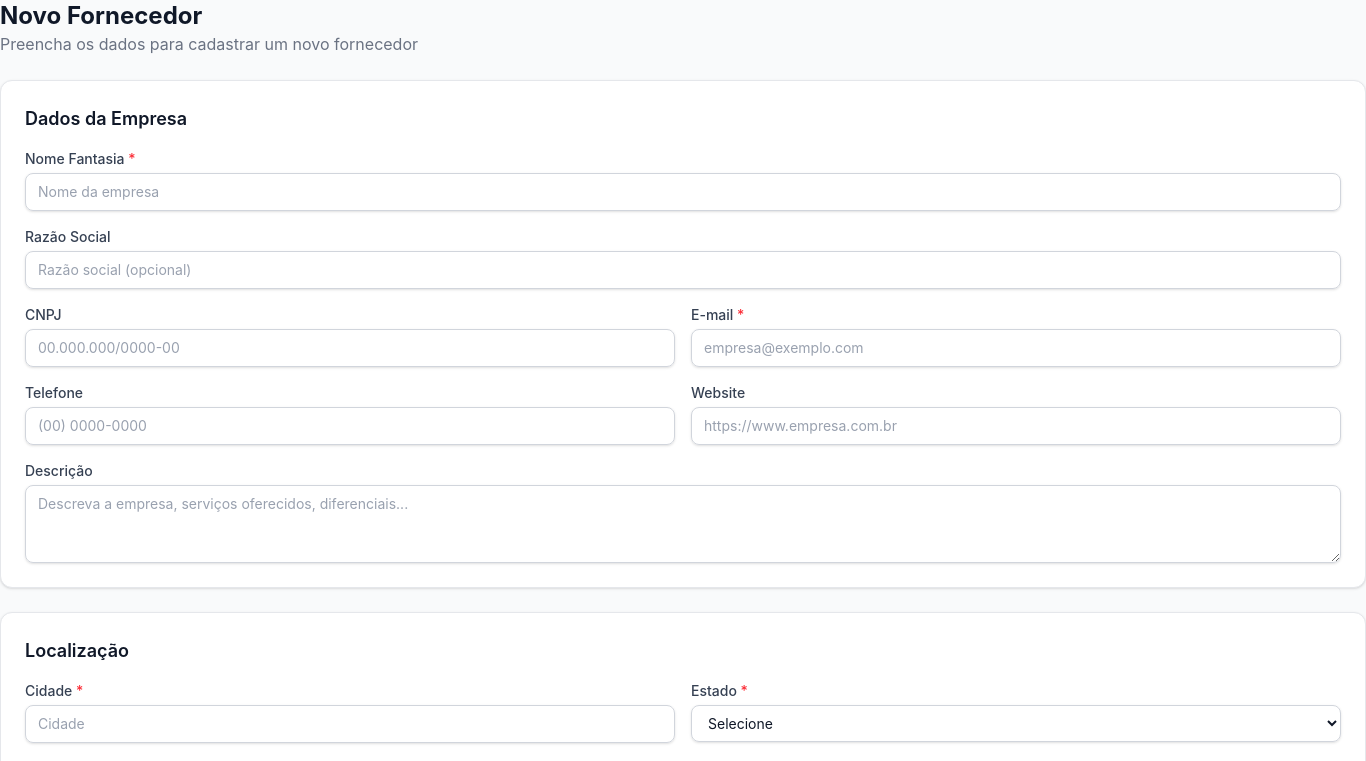
VendorFormView › criação › mostra os erros de validação da API
Type "Novo Fornecedor" into the field with id "trade_name" at (683, 192), box [25, 173, 1341, 211]
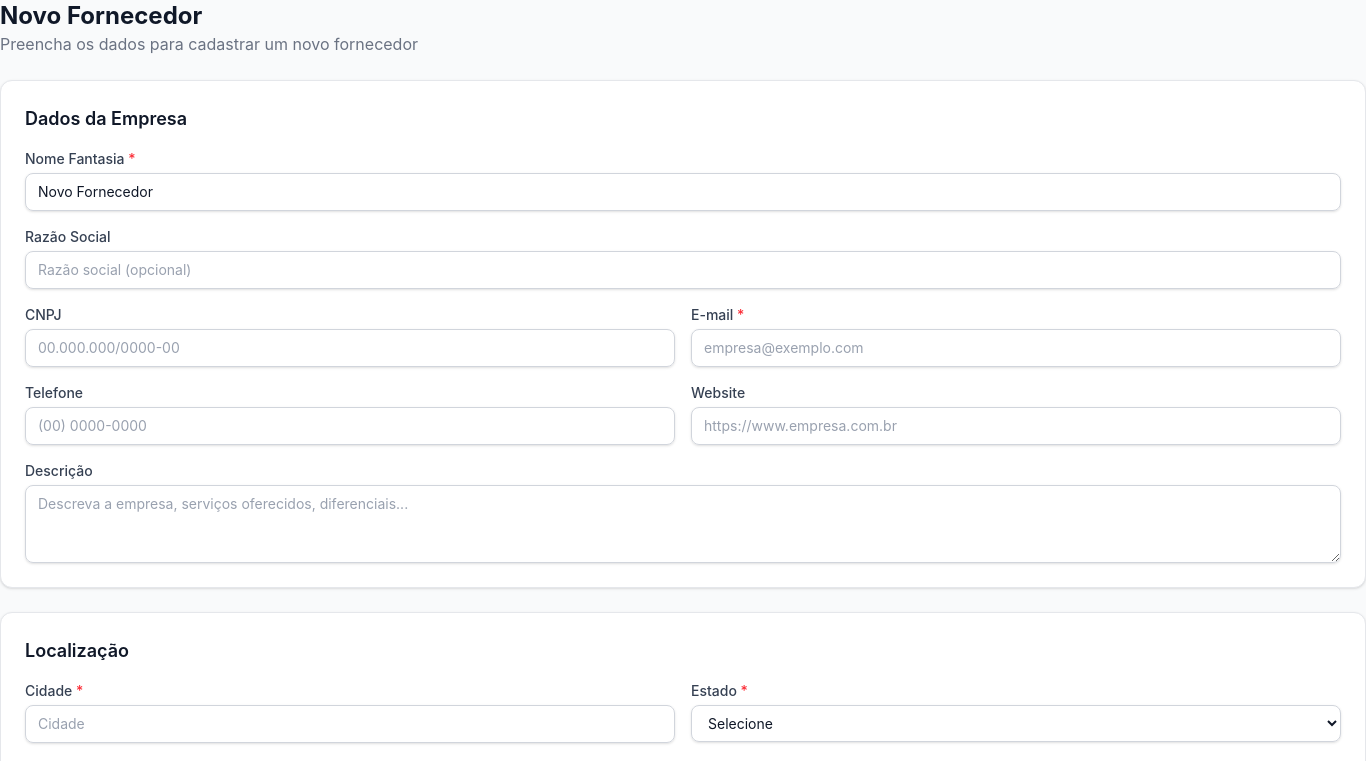
Type "novo@fornecedor.com.br" into the field with id "email" at (1016, 348), box [691, 329, 1341, 367]
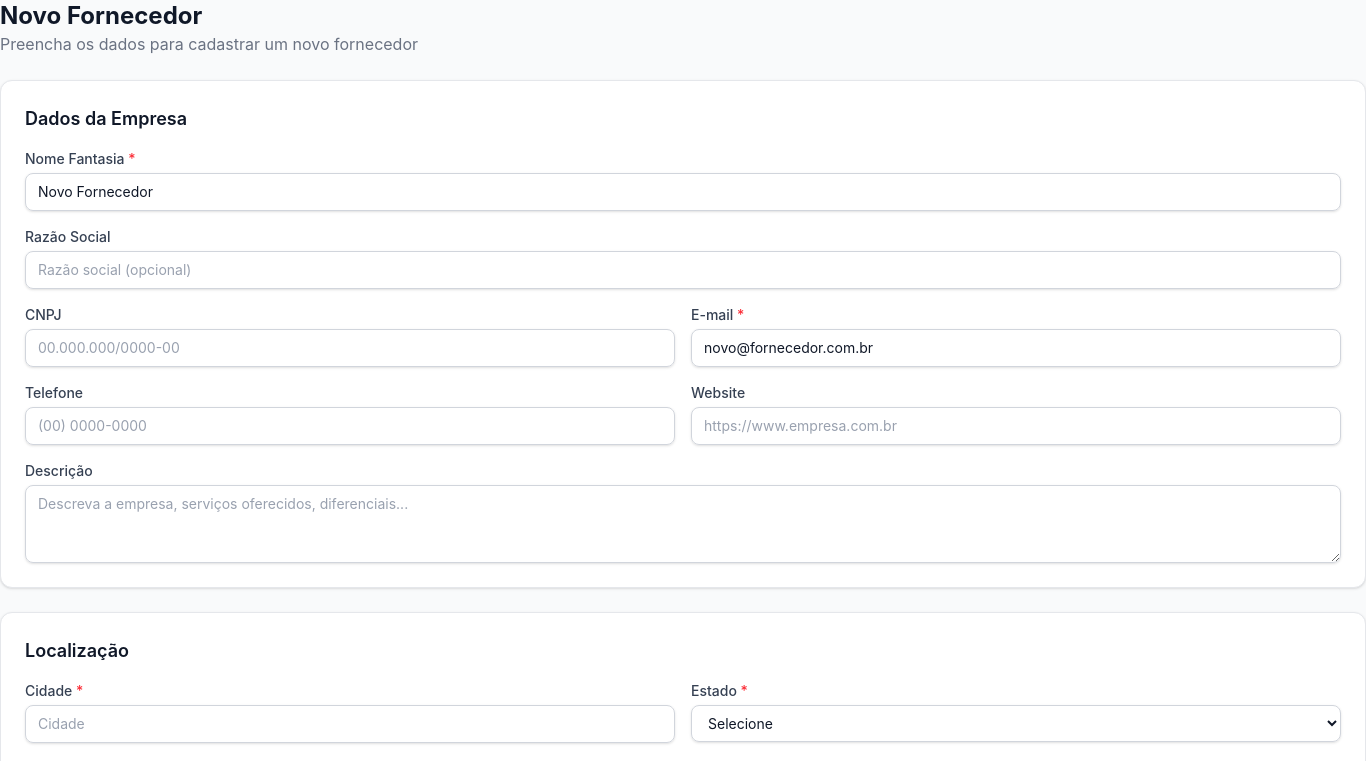
Type "São Paulo" into the field with id "city" at (350, 724), box [25, 705, 675, 743]
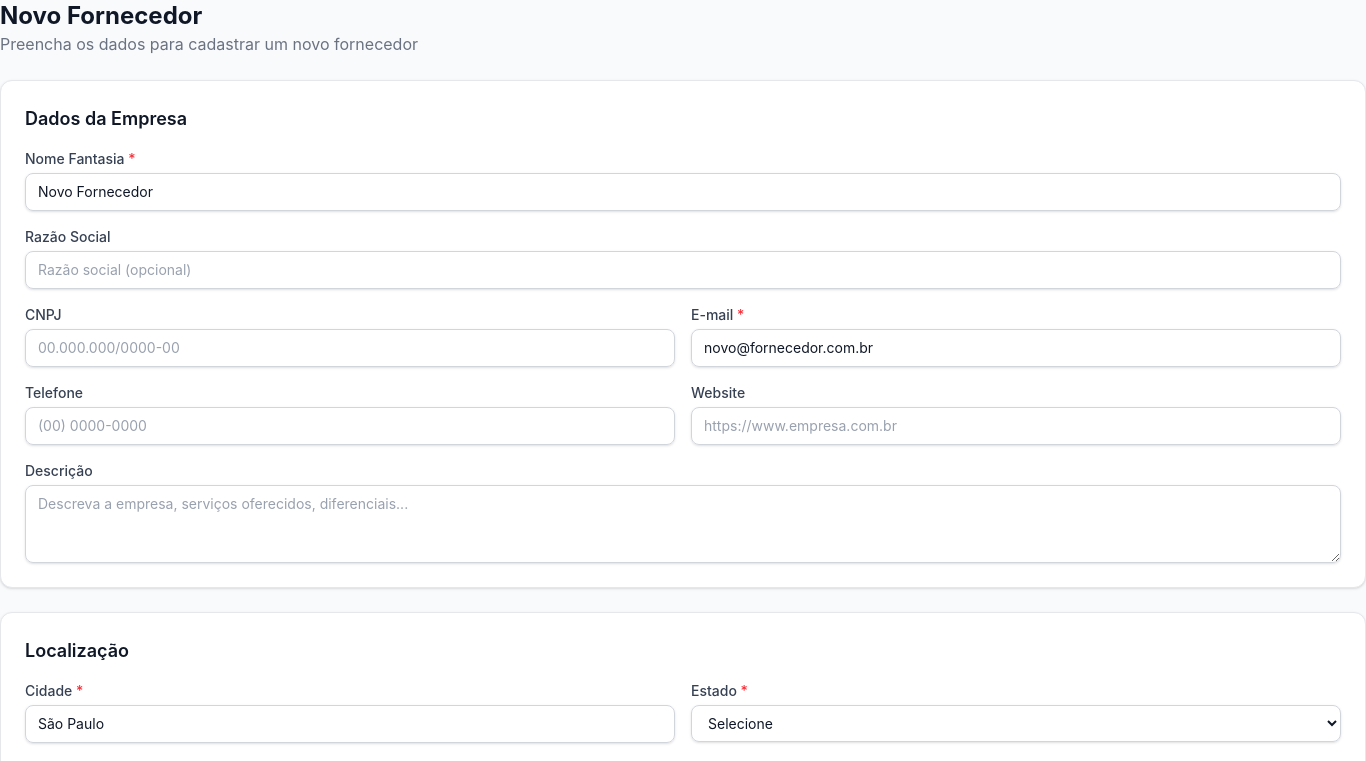
Select "SP" in the dropdown with id "state" at (1016, 724), box [691, 705, 1341, 742]
(page scrolled)
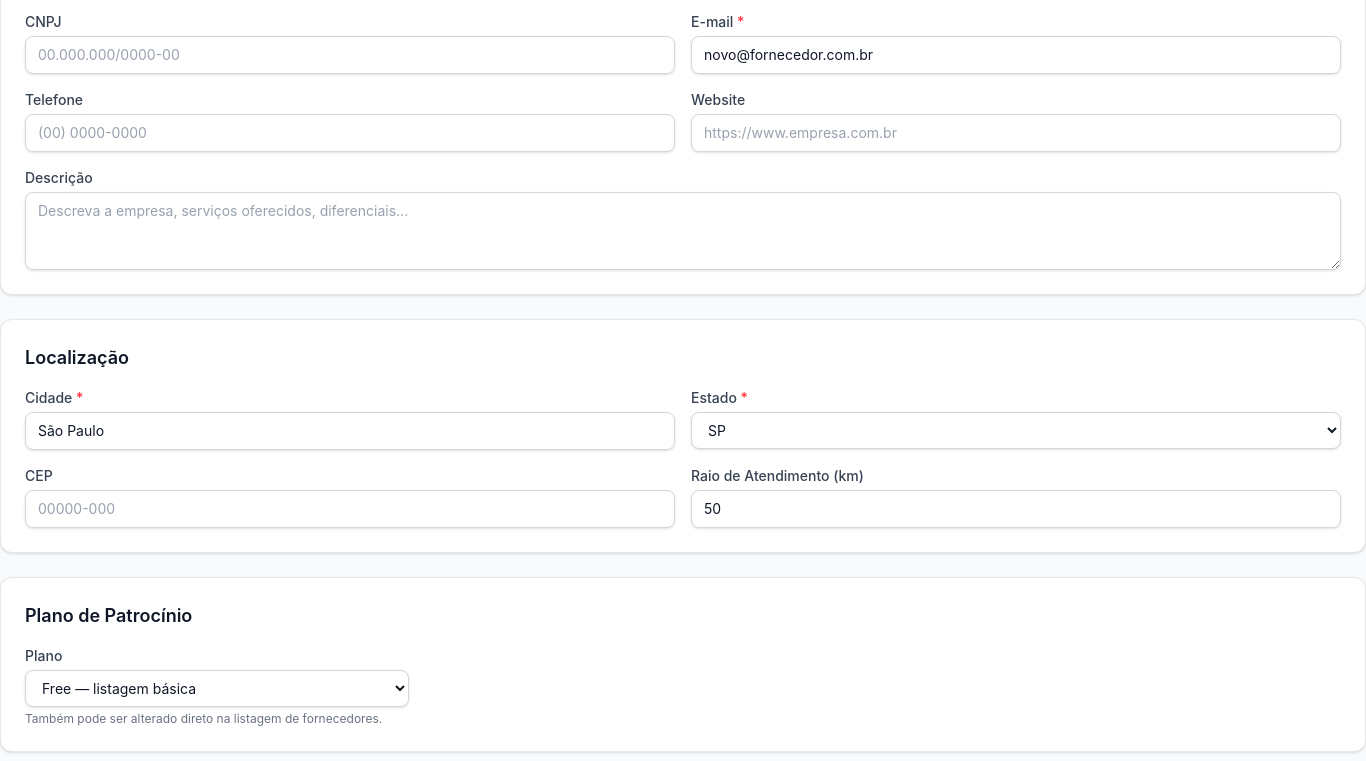
Submit the form
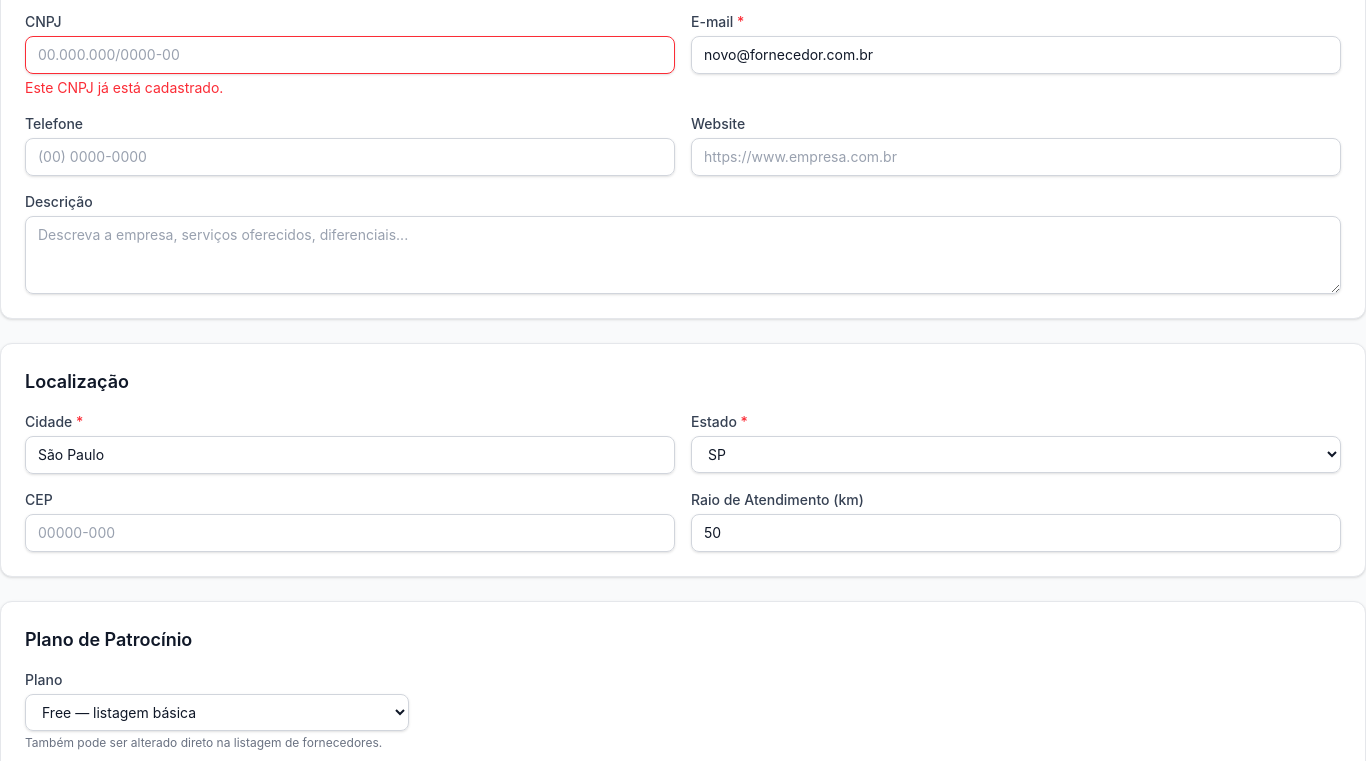
Check: the text "Este CNPJ já está cadastrado." is shown, box [25, 79, 223, 96]
